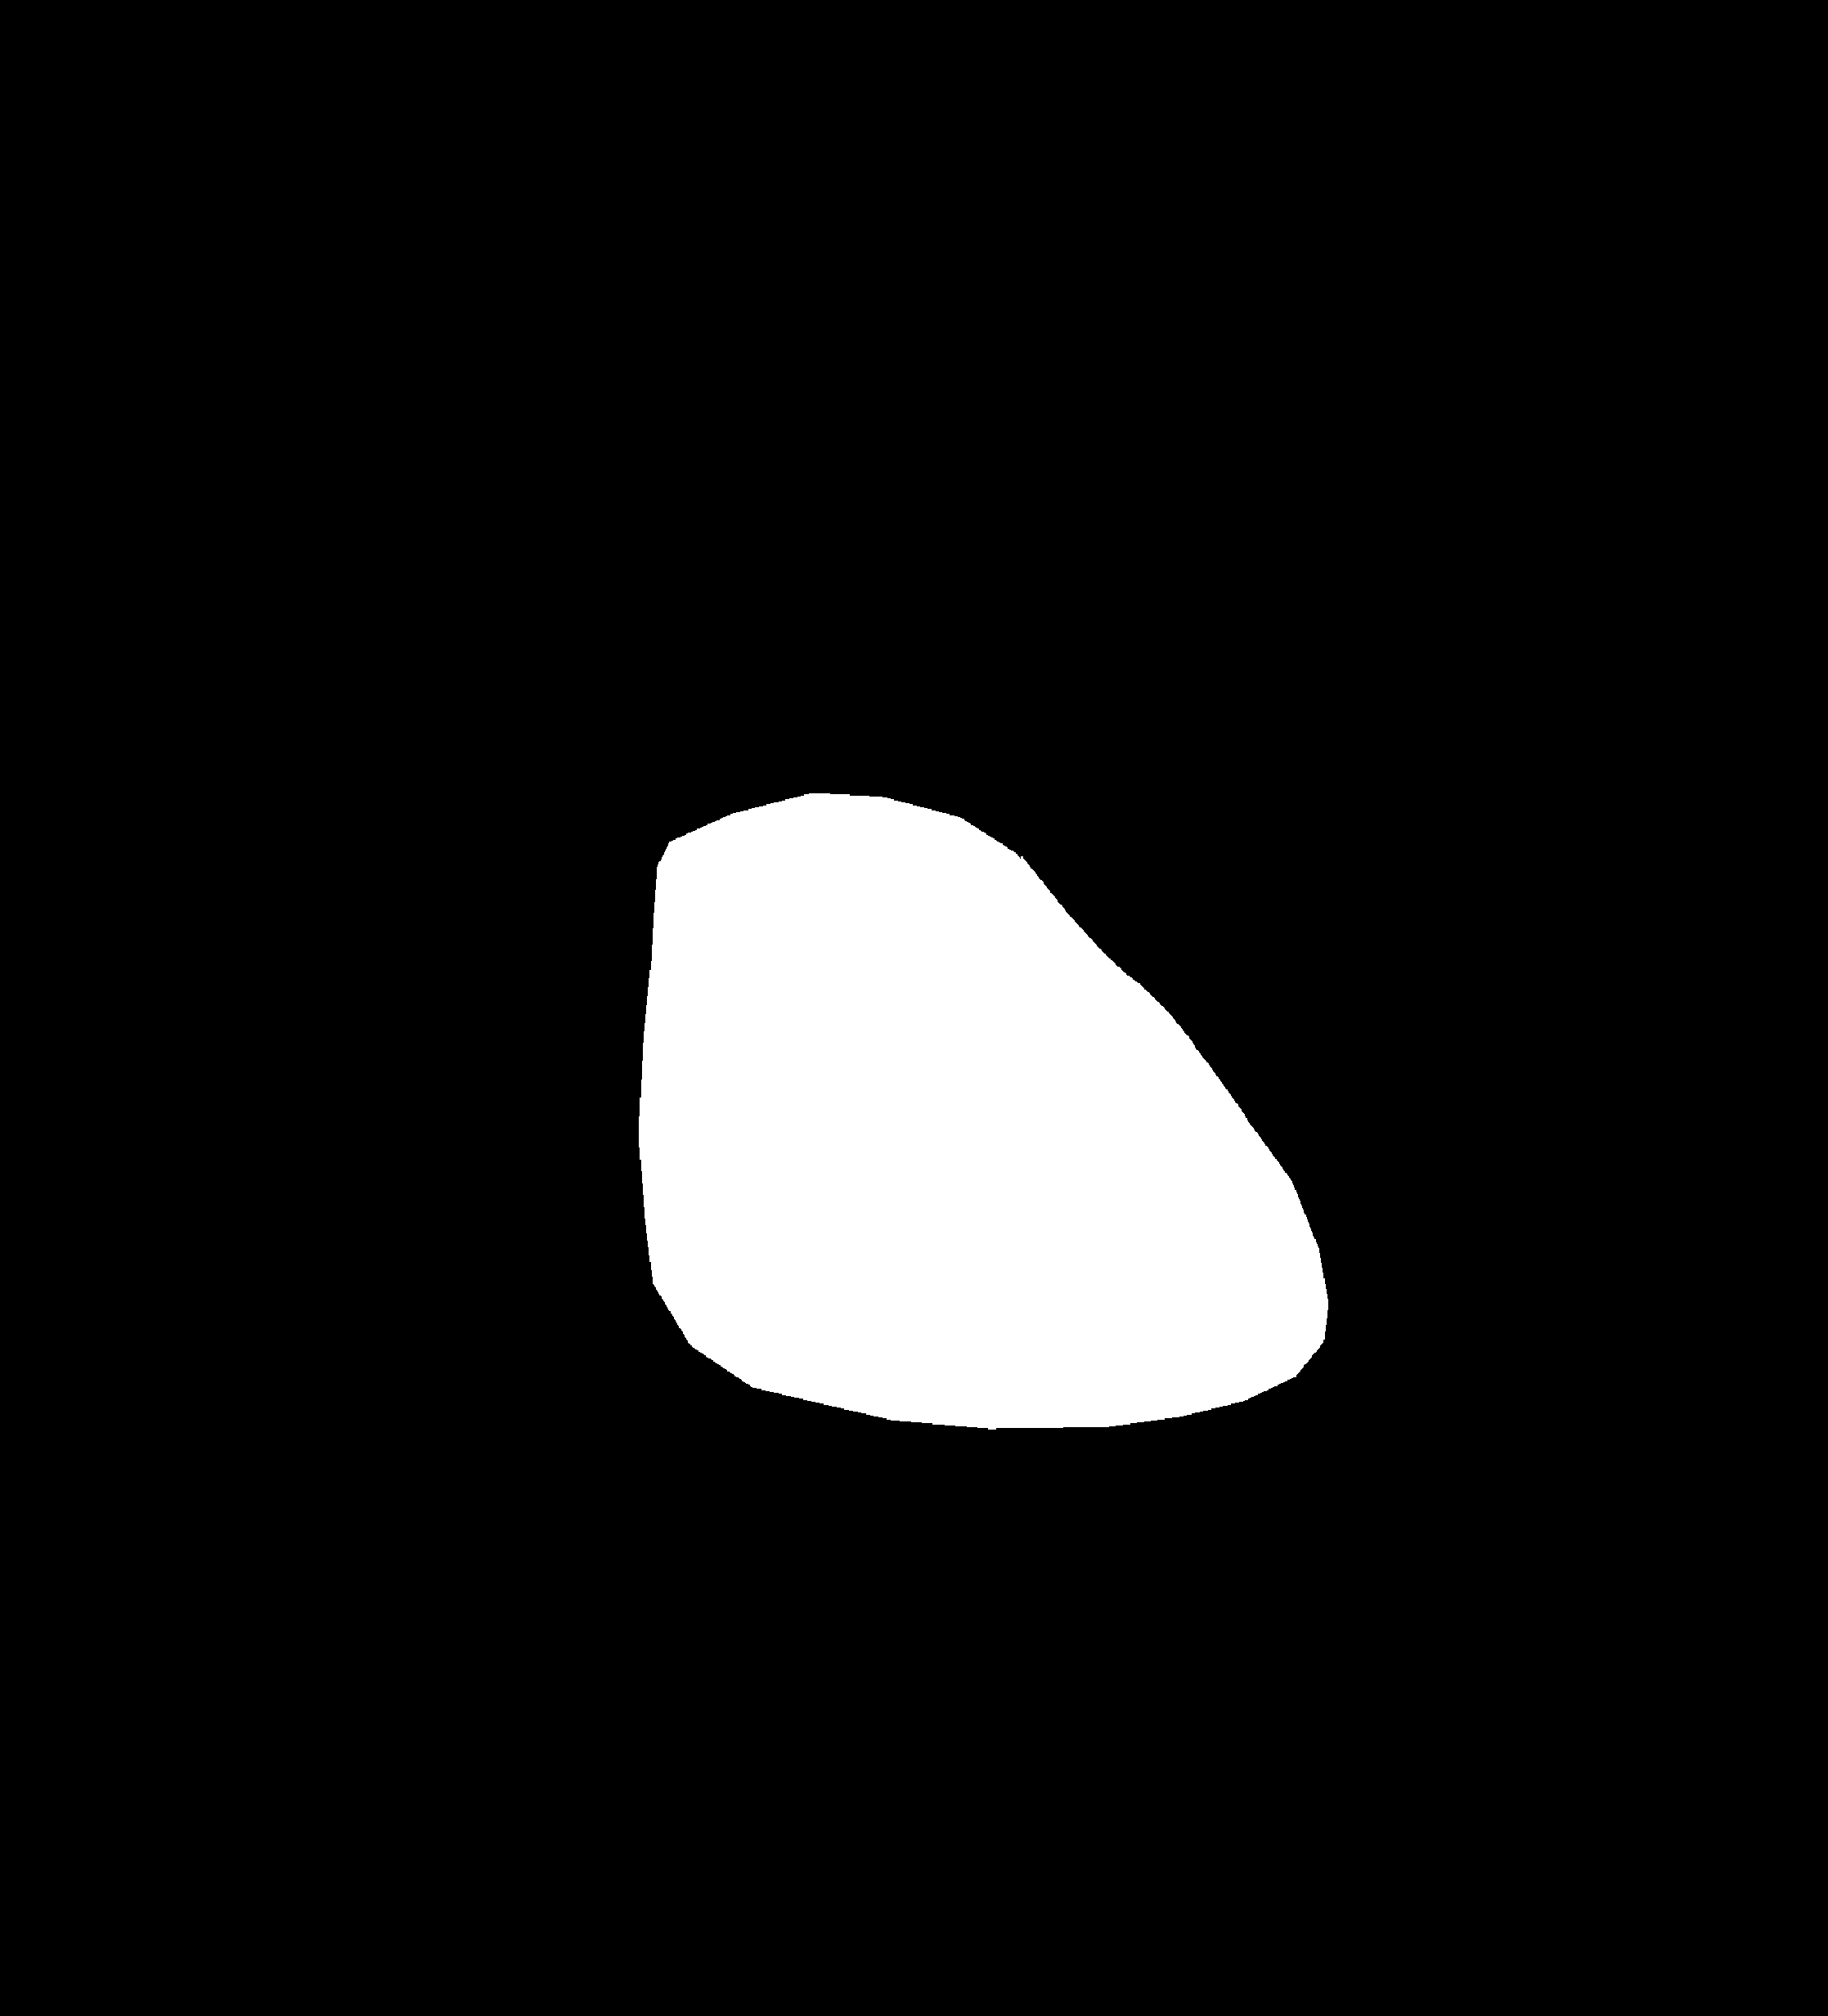heart: (636, 855, 1345, 1421)
left_lung: (212, 267, 762, 1573)
right_lung: (867, 155, 1640, 1496)
